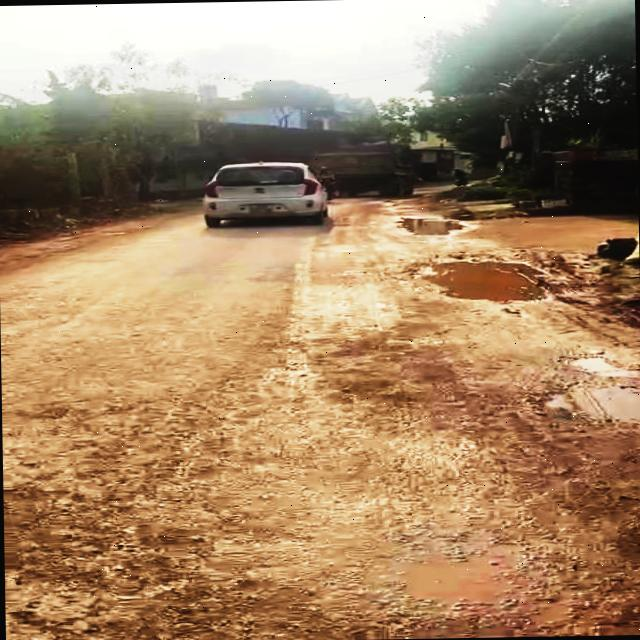pothole: (386, 250, 558, 309), (523, 347, 640, 431), (389, 213, 472, 238)
